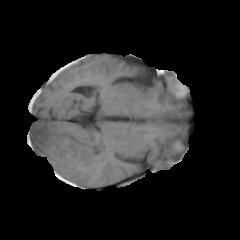glioma: (28, 122, 106, 185)
